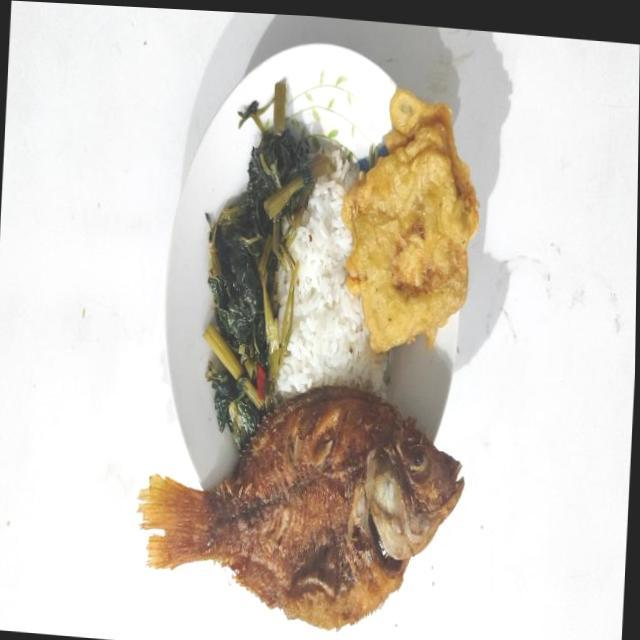ikan_mujair: (137, 386, 464, 628)
nasi_putih: (276, 150, 386, 399)
tumis_kangkung: (203, 80, 333, 449)
